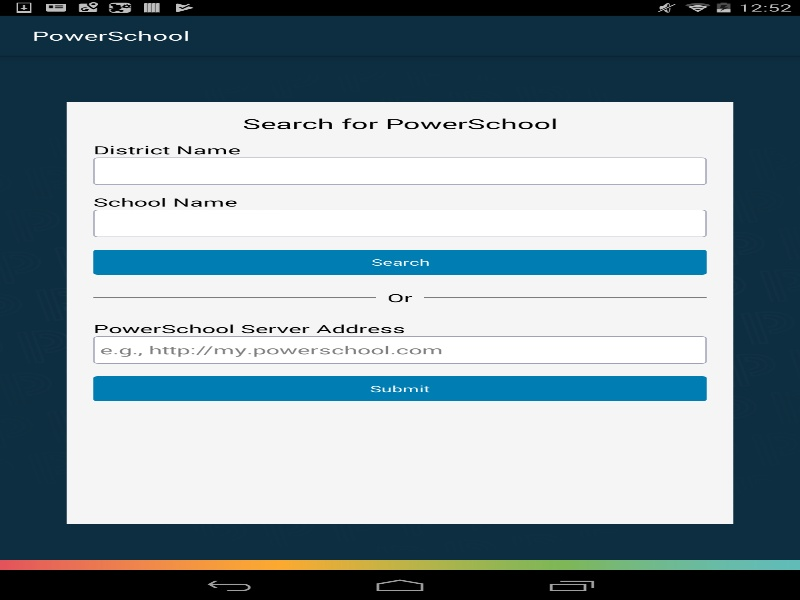Button: (93, 249, 706, 274), (93, 376, 706, 401)
Input: (93, 157, 706, 185), (93, 209, 706, 237), (93, 336, 706, 363)
